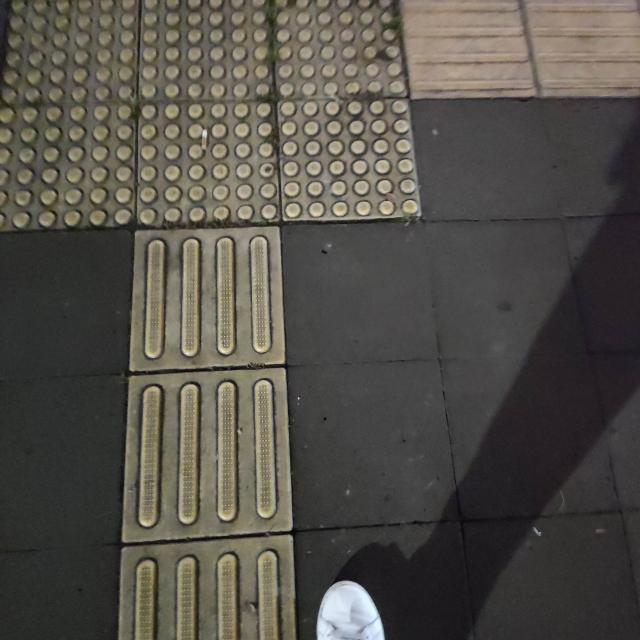kanan: (94, 0, 640, 301)
